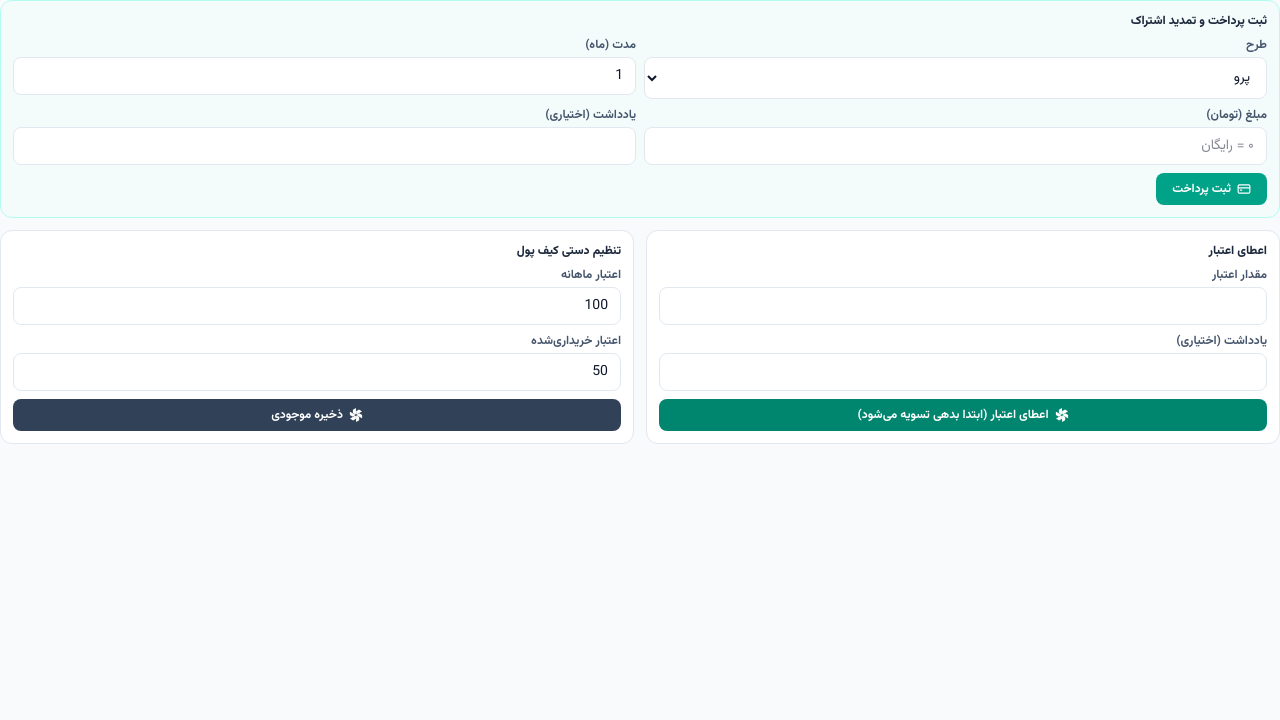
Scenario: [component] BillingForms › falls back to a generic error message for non-Error failures
Click the button "ثبت پرداخت".
click(1212, 189)  # box [1156, 173, 1267, 205]
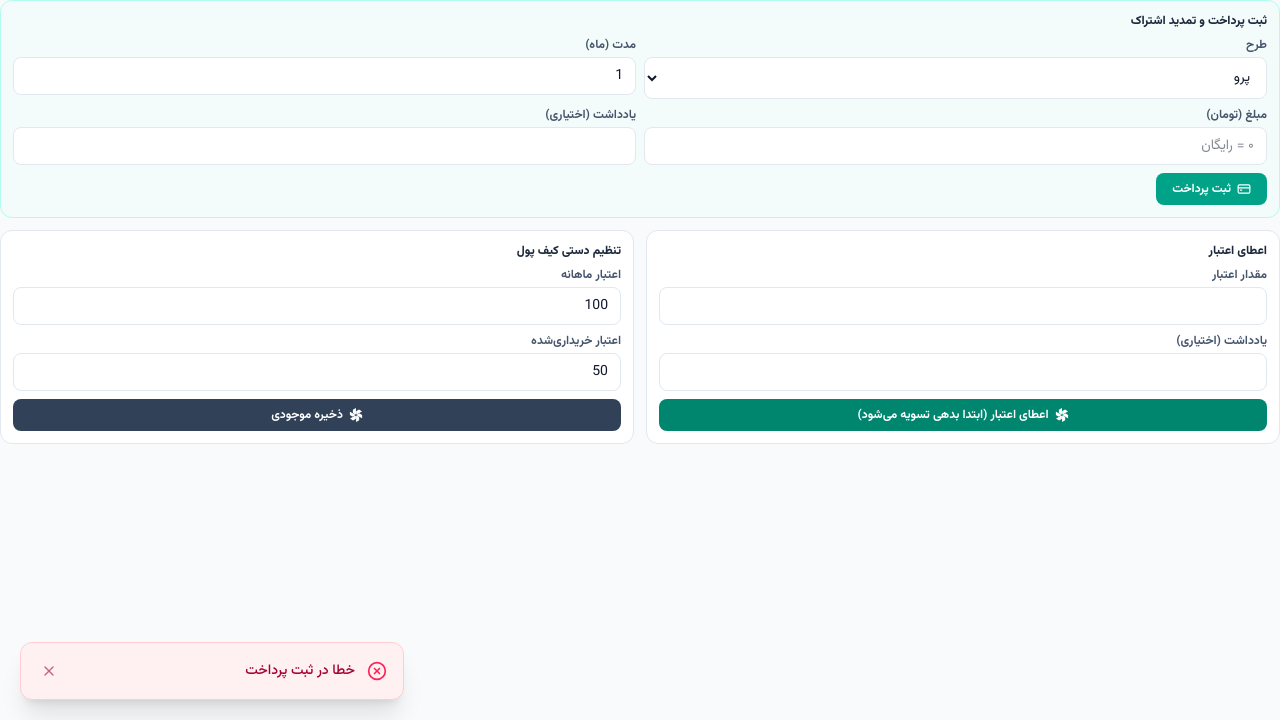
expect the text "خطا در ثبت پرداخت" is shown: met, box [245, 661, 355, 681]
